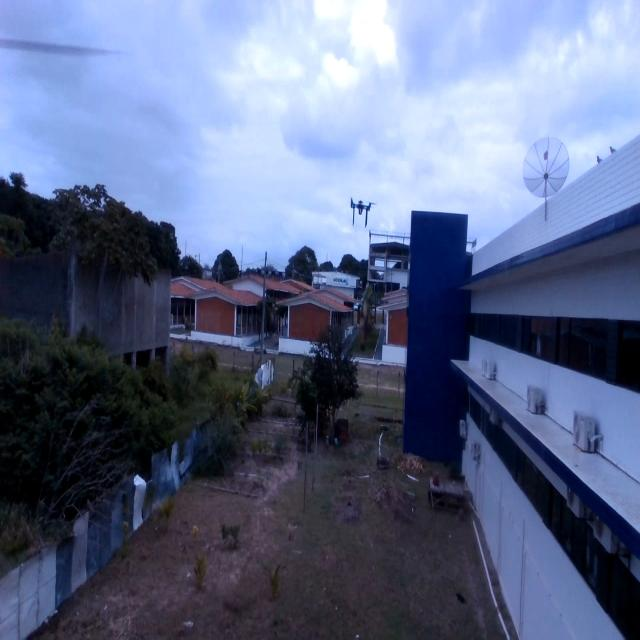-uav-: (345, 191, 378, 234)
